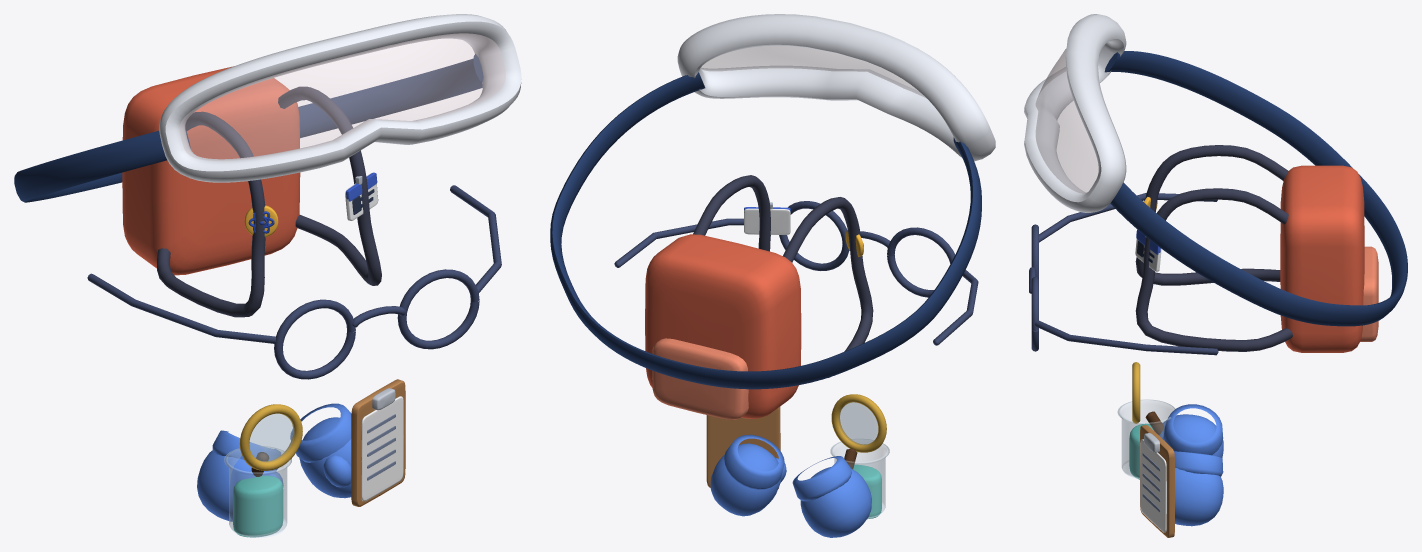
Rendered from pack_gear.glb.
The picture shows the model from 3 angles, left to right: view 1: azimuth 30°, elevation 25°; view 2: azimuth 150°, elevation 25°; view 3: azimuth 270°, elevation 25°; orthographic projection. The views are drawn at different scales.
Parts seen in each view (by area): view 1: Gear_Goggles, Gear_Backpack, Gear_Glasses, Gear_Clipboard, Gear_Beaker, Gear_Gloves_L, Gear_Gloves_R, Gear_Magnifier, Gear_NameTag, Gear_Badge; view 2: Gear_Goggles, Gear_Backpack, Gear_Gloves_R, Gear_Gloves_L, Gear_Glasses, Gear_Magnifier, Gear_Clipboard, Gear_Beaker, Gear_NameTag; view 3: Gear_Goggles, Gear_Backpack, Gear_Gloves_L, Gear_Clipboard, Gear_Glasses, Gear_Gloves_R, Gear_Beaker, Gear_Magnifier, Gear_NameTag.
Part boxes in pixels (x1,y1,x2,y2): Gear_Goggles: [14, 14, 521, 202]; Gear_Backpack: [122, 66, 381, 317]; Gear_Glasses: [87, 185, 501, 379]; Gear_Clipboard: [351, 379, 405, 506]; Gear_Beaker: [224, 446, 291, 537]; Gear_Gloves_L: [290, 403, 351, 498]; Gear_Gloves_R: [197, 430, 283, 521]; Gear_Magnifier: [239, 404, 302, 476]; Gear_NameTag: [345, 172, 378, 220]; Gear_Badge: [244, 205, 278, 237]; Gear_Goggles: [550, 14, 995, 389]; Gear_Backpack: [645, 175, 873, 419]; Gear_Gloves_R: [792, 456, 871, 537]; Gear_Gloves_L: [710, 434, 786, 516]; Gear_Glasses: [614, 201, 978, 345]; Gear_Magnifier: [831, 394, 886, 468]; Gear_Clipboard: [706, 407, 780, 488]; Gear_Beaker: [830, 439, 889, 519]; Gear_NameTag: [744, 202, 790, 234]; Gear_Goggles: [1024, 14, 1407, 326]; Gear_Backpack: [1135, 145, 1378, 352]; Gear_Gloves_L: [1174, 451, 1223, 526]; Gear_Clipboard: [1140, 425, 1174, 537]; Gear_Glasses: [1029, 193, 1218, 355]; Gear_Gloves_R: [1159, 404, 1223, 457]; Gear_Beaker: [1117, 399, 1174, 479]; Gear_Magnifier: [1132, 362, 1163, 434]; Gear_NameTag: [1135, 229, 1161, 271].
Bounding box in the file's own units: 0.6272 × 0.7054 × 0.5456.
